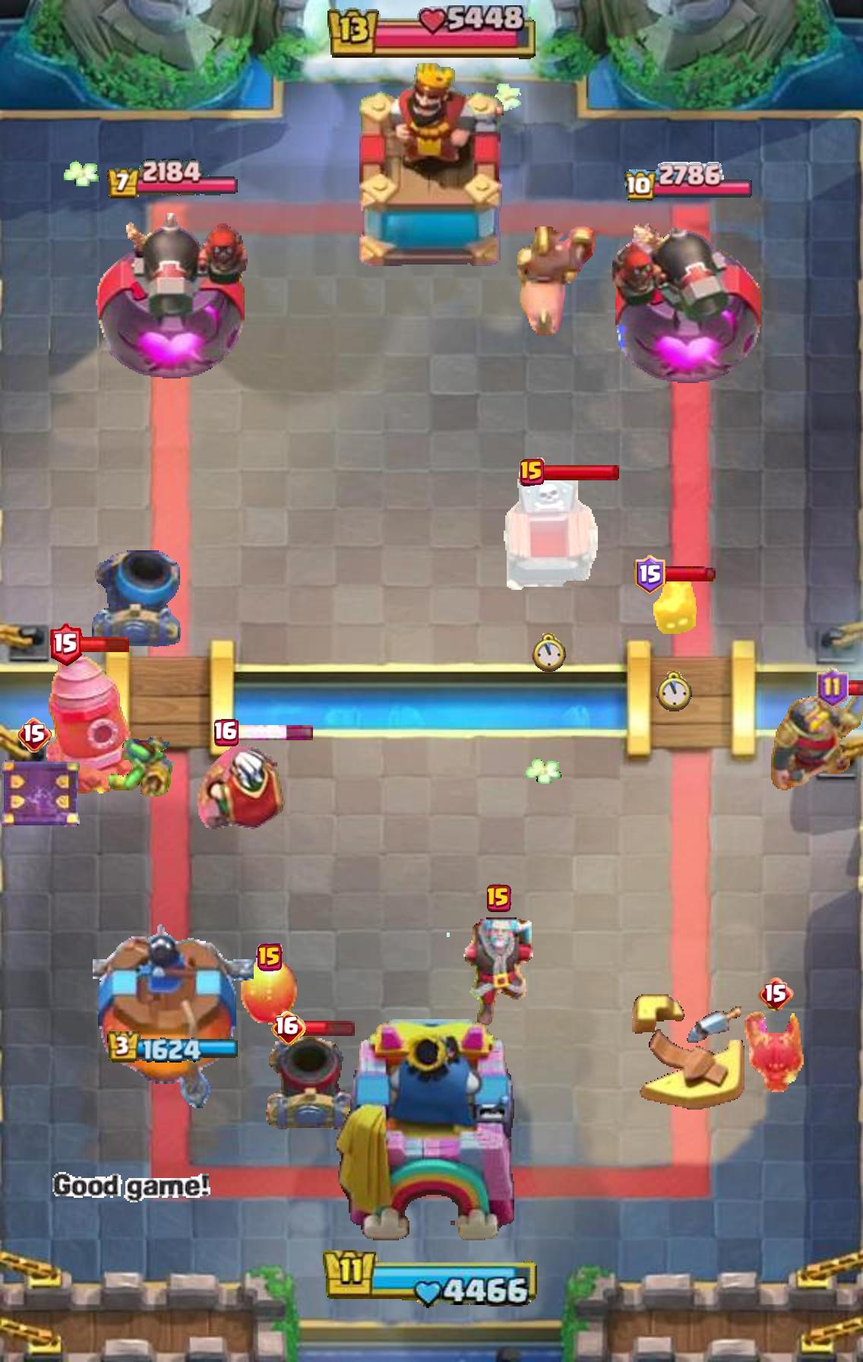bar: (541, 463, 620, 481), (235, 724, 315, 741), (662, 565, 716, 584), (302, 1018, 356, 1037), (78, 636, 130, 653), (845, 679, 863, 696)
bar-level: (51, 622, 83, 667), (634, 555, 667, 594), (817, 668, 849, 708), (757, 977, 794, 1011), (17, 717, 52, 752), (271, 1010, 306, 1045), (519, 458, 545, 486), (256, 944, 282, 972), (214, 719, 239, 746), (487, 884, 511, 912)
